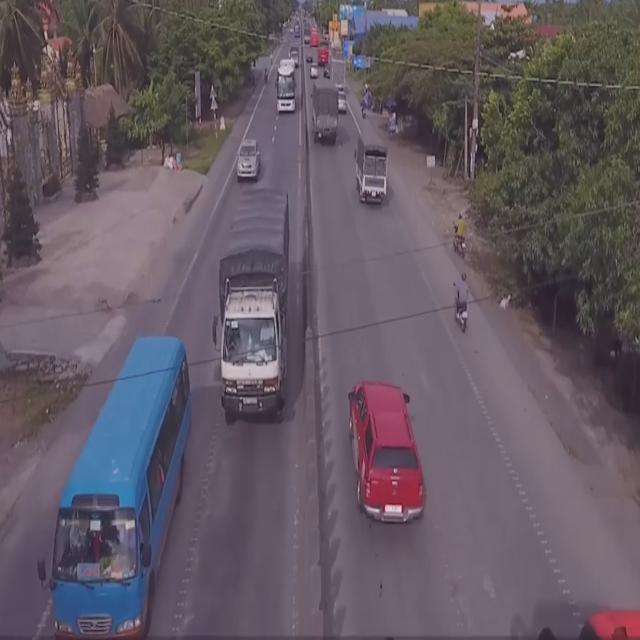bus: (40, 334, 191, 640), (275, 58, 297, 115)
car: (344, 379, 426, 524), (236, 134, 262, 181)
motorbike: (453, 274, 472, 333), (452, 213, 468, 261)
truck: (216, 185, 292, 425), (354, 134, 392, 212), (309, 78, 342, 145)
